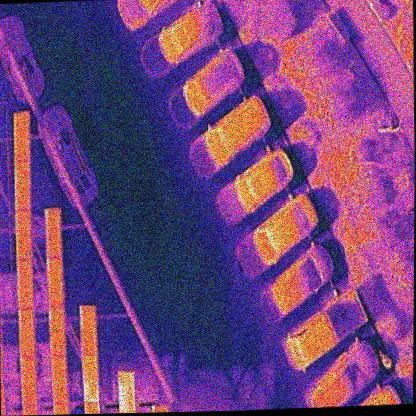Diode: (79, 305, 97, 355), (81, 353, 98, 404), (116, 371, 134, 413)
Normal: (48, 304, 66, 356), (17, 307, 35, 358), (18, 357, 37, 405), (13, 158, 30, 210), (16, 258, 33, 309), (47, 256, 64, 307), (44, 207, 61, 258), (15, 209, 31, 260), (51, 353, 67, 403), (13, 111, 29, 159)
